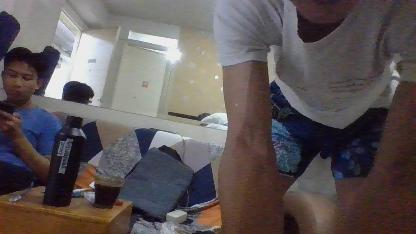Glass Cup: (92, 171, 121, 209)
